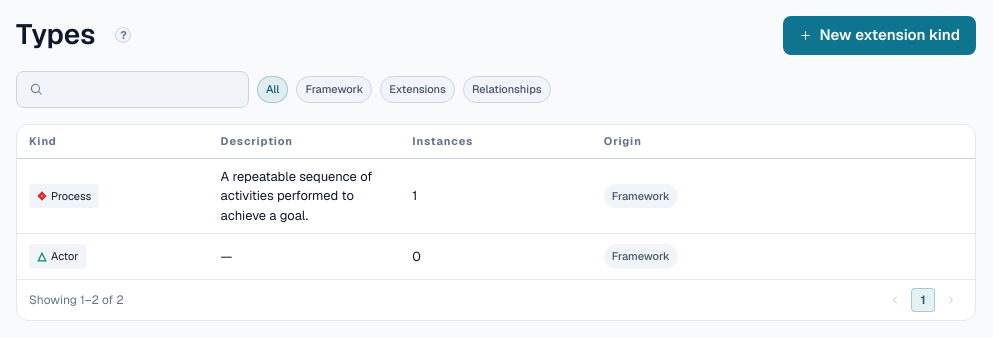
it: CeTypesPage › filters to an empty table on the Extensions chip (no extension kinds exist in M1)
Expected: the text "Process" is shown, [29,184,99,208]
Click the button "Extensions" at (418,89), box [380,76,455,102]
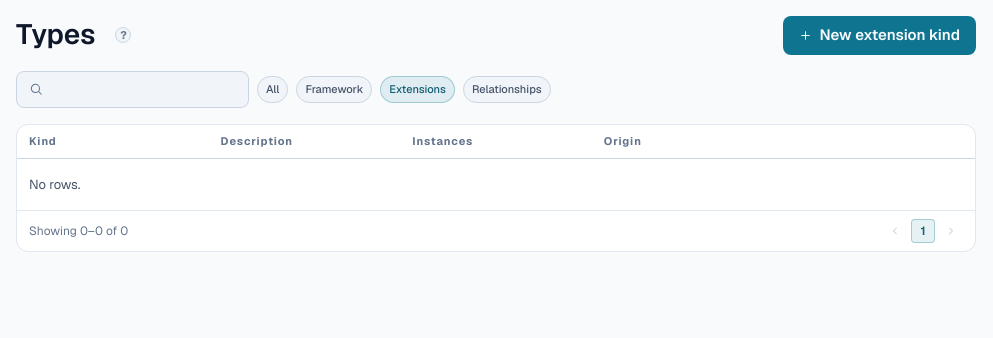
Now the text "Process" is gone
Now the text "No rows." is shown, box [17,158,975,210]
